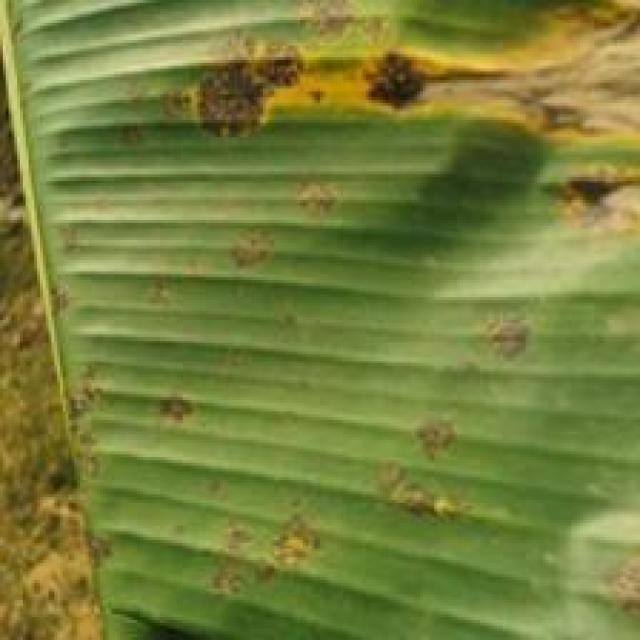Downey_mildrew: (73, 304, 640, 640), (134, 0, 640, 277), (27, 194, 108, 316)
